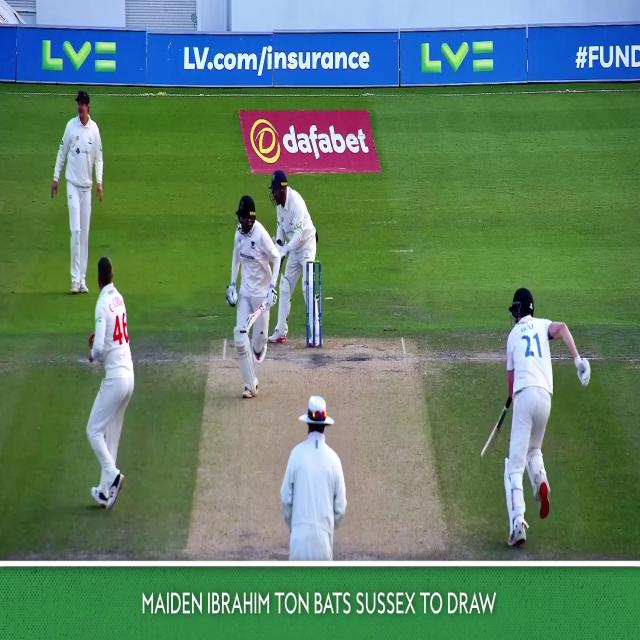stump: (307, 262, 321, 347)
